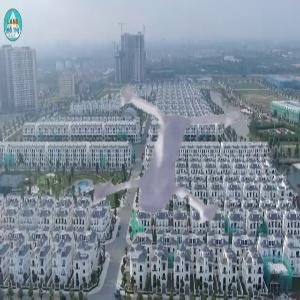drone: (41, 53, 280, 292)
